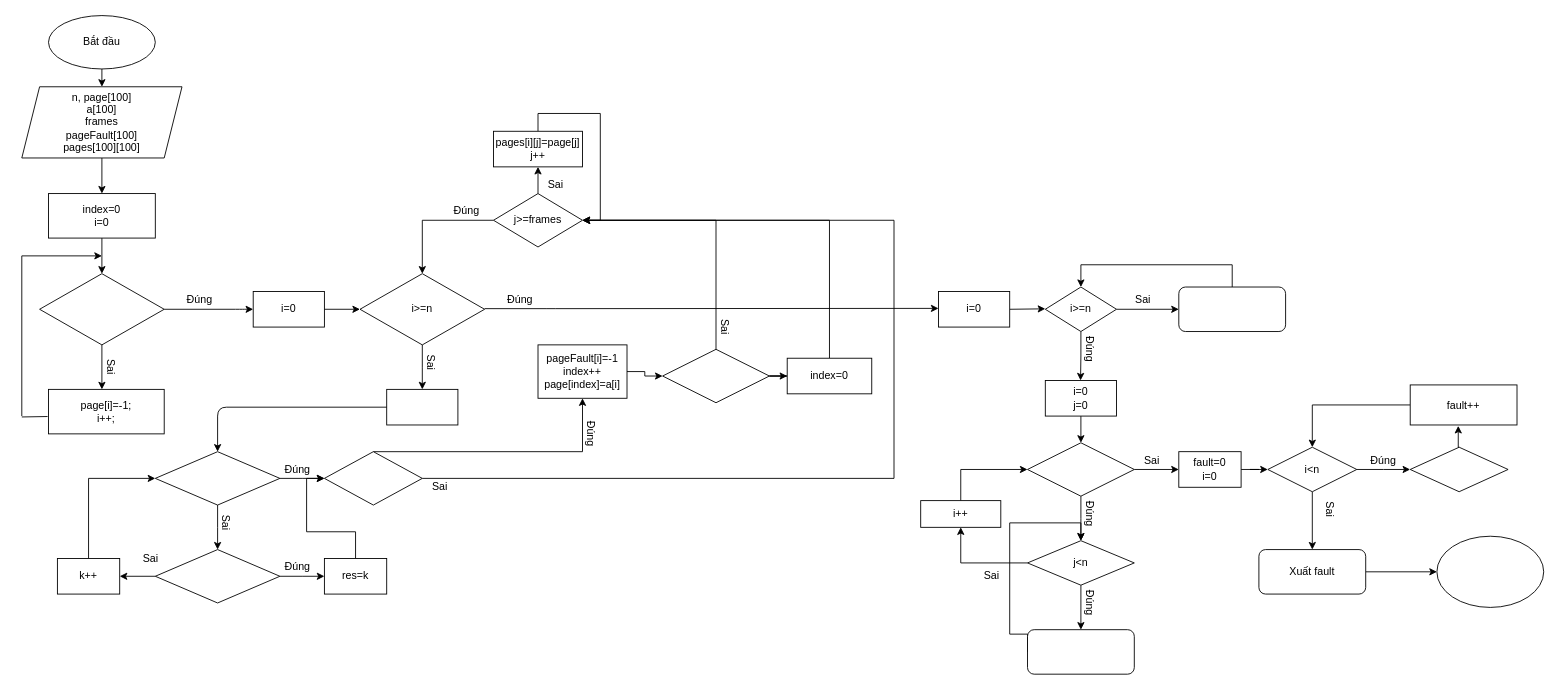
The diagram is 1559 pixels wide and 690 high, and some of its shapes have lost their labels. Each missing label, with the centre of its shape:
"a[i]=page[k]" belongs at (x=217, y=576).
"i<frames" belongs at (x=1080, y=469).
"i>=frames" belongs at (x=101, y=309).
"index=frames" belongs at (x=715, y=375).
"k<=frames" belongs at (x=217, y=478).
"k=0 res=-1" belongs at (x=422, y=406).
"Kết thúc" belongs at (x=1490, y=571).
"pageFault[i]=-1" belongs at (x=1458, y=469).
"res=-1" belongs at (x=373, y=478).
"Xuất a[i] i++" belongs at (x=1232, y=309).
"Xuất page[i][j] j++" belongs at (x=1080, y=651).
